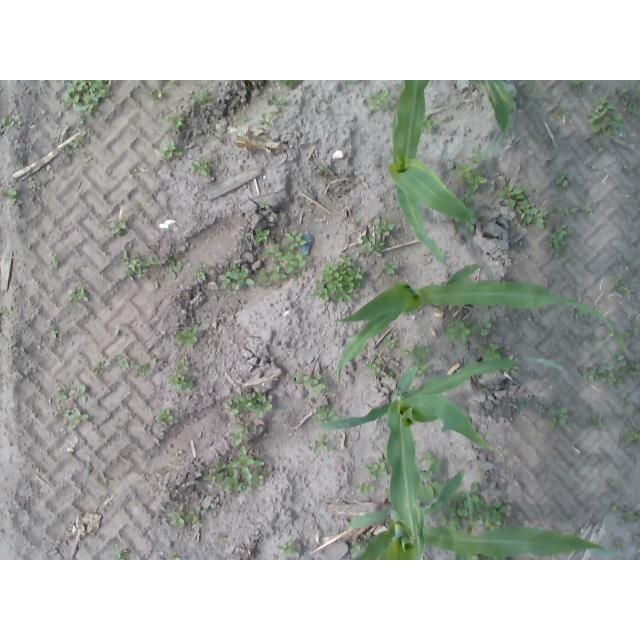Maize: (347, 400, 626, 561), (337, 262, 632, 384), (317, 359, 567, 454), (390, 81, 477, 268), (471, 81, 513, 156)
Weeds: (203, 447, 268, 496), (222, 389, 274, 447), (311, 253, 365, 307), (258, 230, 308, 287), (452, 482, 506, 531), (498, 183, 550, 229), (63, 80, 113, 124), (124, 250, 188, 282), (455, 147, 489, 205), (588, 95, 624, 138), (357, 219, 396, 257), (217, 259, 255, 293), (547, 222, 573, 261), (581, 363, 620, 388), (291, 371, 326, 397), (55, 406, 90, 431), (618, 87, 640, 126), (612, 348, 640, 376), (445, 320, 472, 344), (612, 502, 640, 525), (62, 138, 91, 159), (370, 88, 391, 116), (421, 472, 439, 504), (175, 326, 201, 348), (312, 402, 339, 423), (438, 509, 462, 532), (168, 375, 197, 394), (188, 91, 216, 110), (364, 457, 388, 479), (69, 283, 92, 305), (549, 407, 571, 430), (608, 276, 633, 296), (192, 156, 217, 176), (161, 140, 183, 161), (111, 540, 133, 561), (474, 316, 497, 336), (366, 356, 387, 377), (277, 540, 299, 560), (422, 450, 441, 473), (584, 406, 604, 427), (556, 168, 573, 192), (0, 114, 20, 133), (168, 510, 187, 529), (107, 221, 131, 236), (115, 351, 133, 371), (312, 436, 332, 454), (552, 204, 579, 217), (355, 480, 378, 495), (44, 321, 61, 341), (259, 111, 277, 129), (194, 263, 212, 281), (1, 187, 18, 206), (168, 114, 188, 130), (623, 427, 640, 445), (480, 344, 500, 359), (132, 363, 150, 379), (149, 90, 168, 105), (188, 508, 202, 528), (255, 229, 273, 244), (156, 408, 172, 424), (49, 253, 64, 270), (413, 344, 430, 359), (267, 96, 286, 109), (318, 163, 333, 178), (415, 361, 430, 376), (589, 332, 607, 344), (280, 80, 301, 90), (382, 263, 398, 276), (517, 398, 535, 409), (349, 541, 364, 554), (626, 326, 640, 339), (510, 90, 519, 110), (424, 116, 435, 132), (593, 141, 607, 153), (384, 337, 396, 351), (102, 471, 113, 486), (174, 361, 190, 371), (467, 219, 477, 235), (56, 388, 69, 400), (558, 106, 571, 118), (93, 361, 103, 376), (148, 352, 160, 364), (581, 203, 594, 214), (259, 199, 273, 209), (1, 304, 12, 316), (569, 81, 587, 88), (401, 349, 412, 360), (215, 534, 225, 546), (167, 552, 182, 560), (533, 185, 545, 195), (624, 399, 636, 409), (621, 160, 630, 173), (211, 133, 222, 143), (168, 80, 180, 89), (76, 385, 88, 394), (608, 478, 617, 490), (614, 538, 623, 550), (511, 365, 521, 375), (466, 553, 479, 560), (77, 396, 87, 405), (174, 448, 183, 457), (580, 311, 589, 317), (438, 248, 445, 255), (244, 117, 252, 123), (184, 290, 192, 296), (347, 81, 361, 84)
